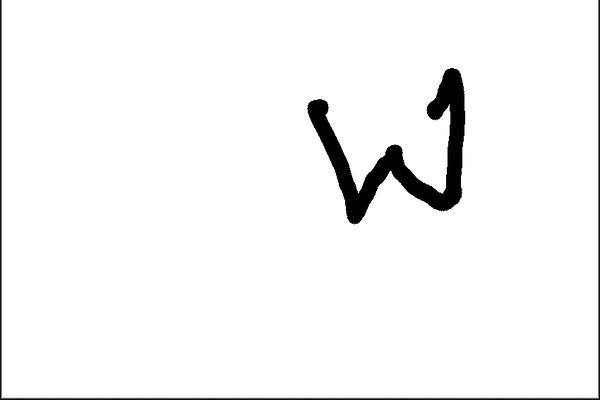w: (295, 57, 484, 239)
